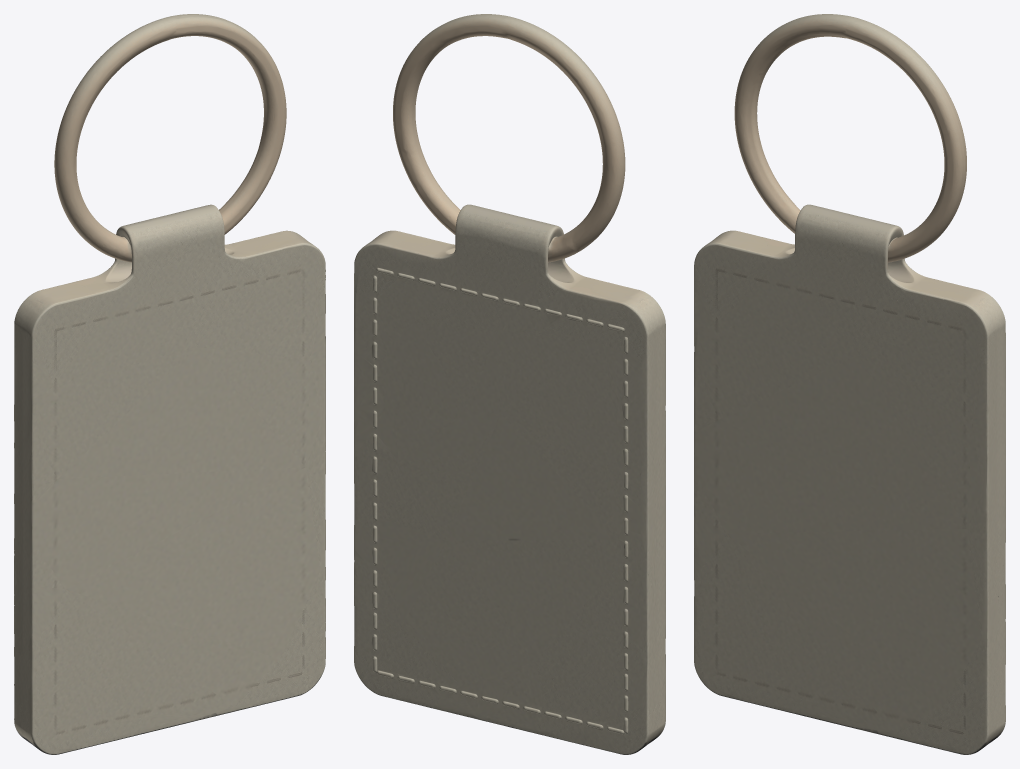
The model's file is leather-square.glb.
3 views of the same model, side by side, from view 1: azimuth 30°, elevation 25°; view 2: azimuth 150°, elevation 25°; view 3: azimuth 330°, elevation 25° (orthographic).
Size of the model in its own units: 0.8368 by 1.9 by 0.0977.
1 material, 1 textured.
